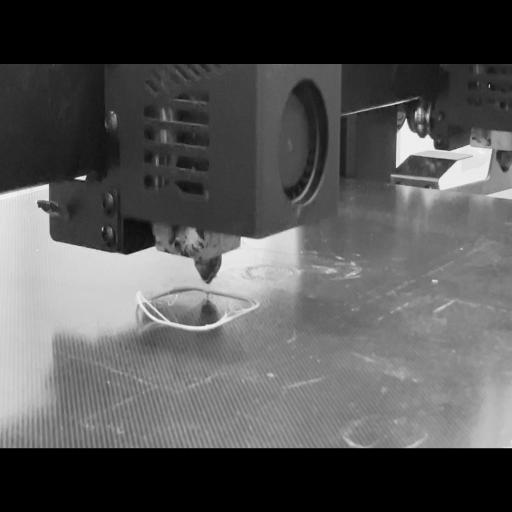spaghetti_and_stringing: (134, 270, 255, 349)
